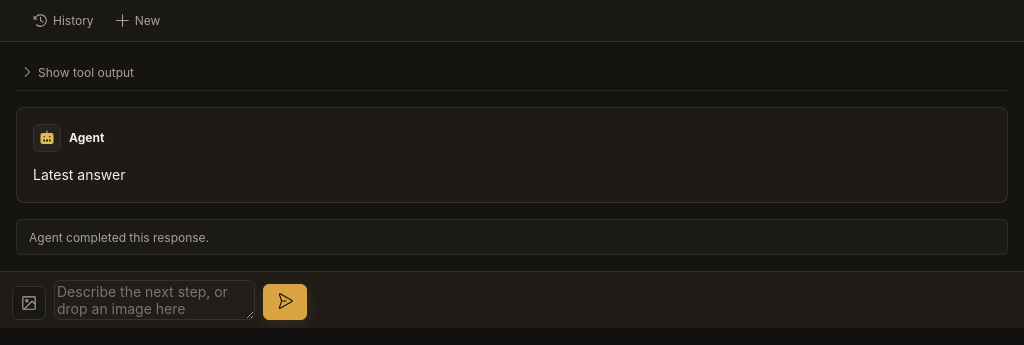
AgentPanel › lists the project's Pi-style saved conversations and restores the selected transcript
The width and height of the screenshot is (1024, 345).
Expected: the text "Latest answer" is shown, x1=33 y1=166 x2=126 y2=183
Click the button with aria-label "Conversation history" at point(63, 20), box x1=24 y1=8 x2=102 y2=33
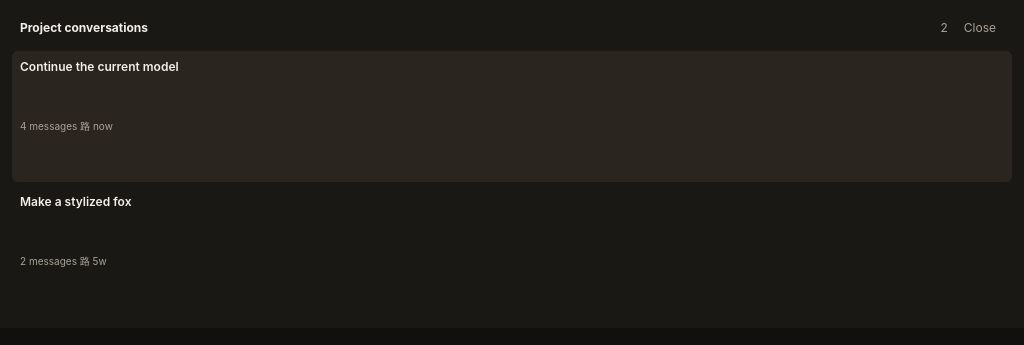
Now the text "Project conversations" is shown, box x1=20 y1=20 x2=148 y2=35
Now the text "Make a stylized fox" is shown
Click the text "Make a stylized fox" at point(76, 201), box x1=20 y1=194 x2=132 y2=209
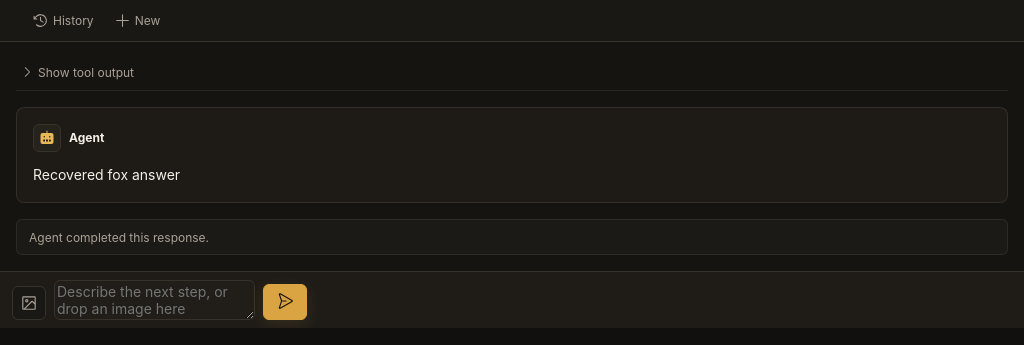
Now the text "Recovered fox answer" is shown, box x1=33 y1=166 x2=180 y2=183
